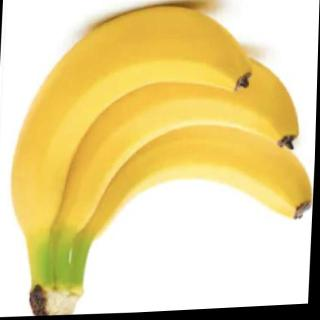banana: (8, 0, 256, 240), (46, 42, 304, 242), (64, 106, 317, 242)
